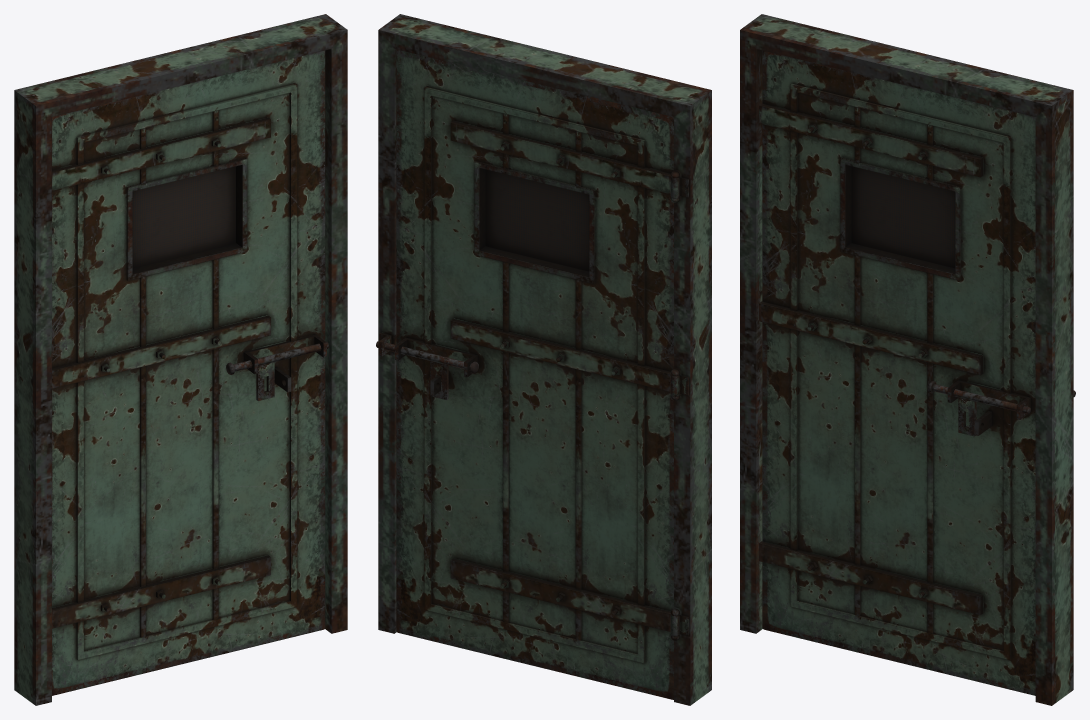
File: Steel_Door_5.glb
The picture shows the model from 3 angles, left to right: view 1: azimuth 30°, elevation 25°; view 2: azimuth 150°, elevation 25°; view 3: azimuth 330°, elevation 25°; orthographic projection.
Parts seen in each view (by area): view 1: Door, Door_Frame; view 2: Door, Door_Frame; view 3: Door, Door_Frame.
Part boxes in pixels (x1=…): Door: x1=52, y1=50, x2=328, y2=695; Door_Frame: x1=14, y1=14, x2=347, y2=705; Door: x1=376, y1=49, x2=673, y2=699; Door_Frame: x1=378, y1=14, x2=711, y2=705; Door: x1=759, y1=50, x2=1075, y2=695; Door_Frame: x1=740, y1=14, x2=1073, y2=705.
Bounding box in the file's own units: 1.12 × 2.05 × 0.2657.
1 material, 1 textured.
